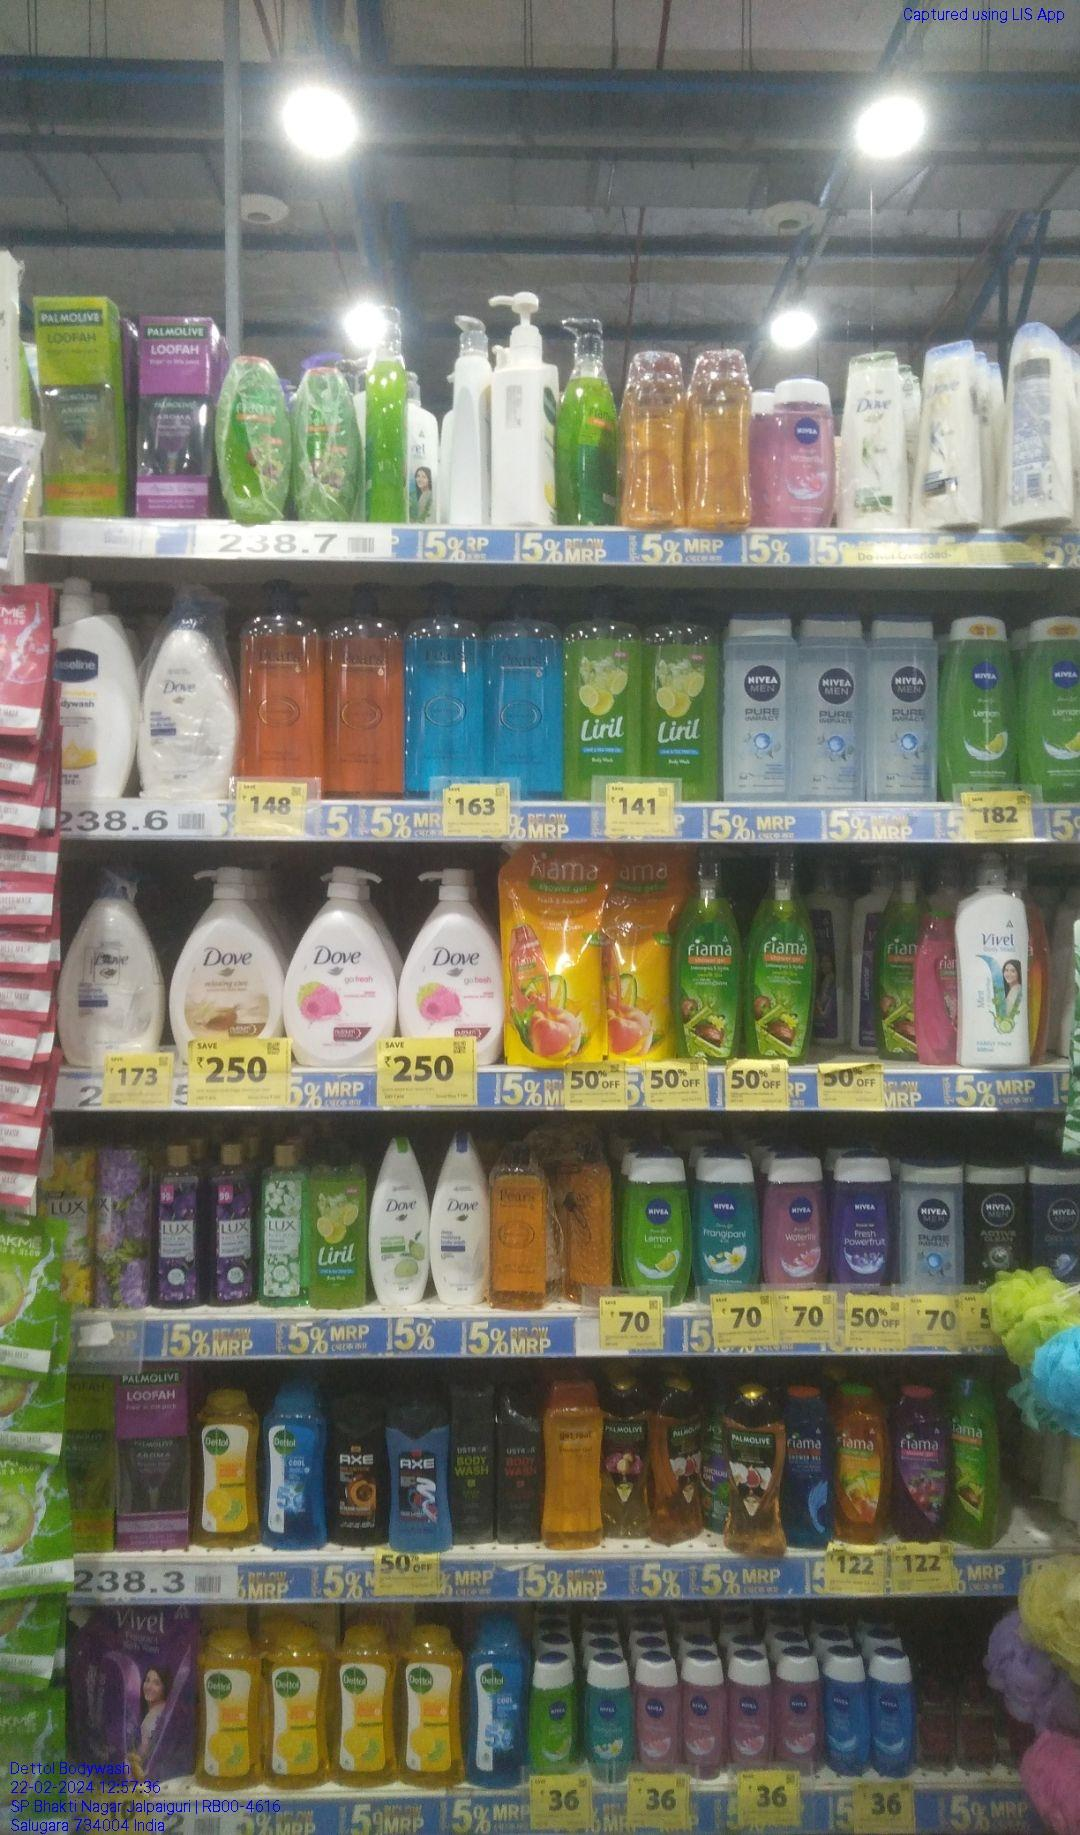Dettol_Bodywash_Cool: (262, 1389, 330, 1552), (467, 1617, 521, 1791)
Dettol_Bodywash_Refresh: (220, 350, 289, 523), (193, 1627, 265, 1791), (190, 1392, 260, 1548), (399, 1627, 464, 1787), (267, 1623, 330, 1787), (337, 1620, 396, 1789)
Dove_Deep_Moisture_Body_Wash_250ML: (433, 1133, 489, 1307)
Dove_Refreshing_Body_Wash_250ML: (374, 1136, 427, 1307)
Fiama_Shower_Gel_Lemongrass_and_Jojoba_250ML: (944, 1372, 999, 1542)
Fiama_Shower_Gel_Peach_and_Avocado_250ML: (831, 1380, 885, 1538)
Get_Real_Shower_Gel_Moisturising_Glycerin_300ML: (617, 348, 685, 529), (541, 1376, 609, 1555), (690, 350, 753, 536)
Liril_Lime_and_Tea_Tree_Oil_Body_Wash_250ML: (307, 1135, 369, 1309)
Lux_Black_Orchid_Scent_and_Juniper_Oil_Body_Wash_245ML: (152, 1142, 206, 1308), (207, 1142, 257, 1304)
Lux_Body_Wash_Skin_Detox_Freesia_Scent_and_Alove_Vera_245ML: (260, 1139, 305, 1304)
Nivea_Shower_Gel_Frangipani_and_Oil_250ML: (696, 1153, 756, 1291)
Nivea_Shower_Gel_Fresh_Powerfruit_250ML: (832, 1150, 890, 1286)
Nivea_Shower_Gel_Lemon_and_Oil_250ML: (939, 616, 1021, 792), (1026, 612, 1080, 802), (622, 1150, 687, 1299)
Nivea_Shower_Gel_Waterlily_and_Oil_250ML: (764, 378, 832, 526), (762, 1151, 828, 1290)
Palmolive_Luminous_Oils_Invigorating_Macadamia_Oil_With_Peony_250ML: (611, 1375, 649, 1541)
Palmolive_Luminous_Oils_With_White_Orchid_Shower_Gel_250ML: (724, 1383, 786, 1556), (652, 1388, 706, 1545)
